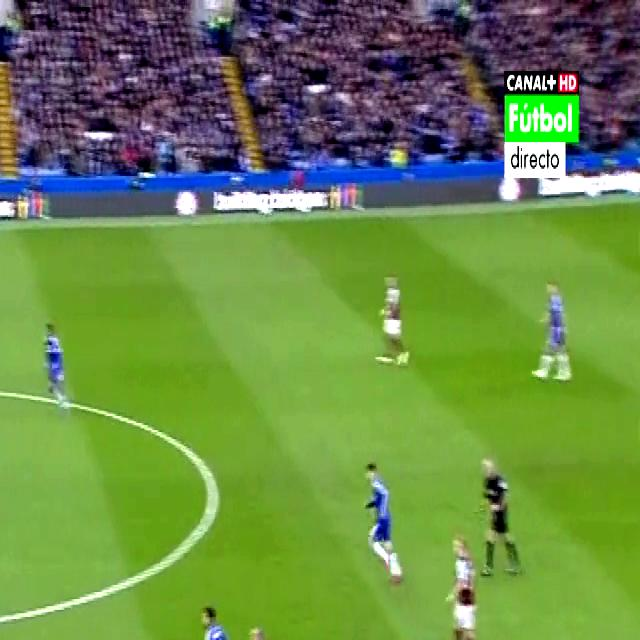referee: (473, 446, 527, 590)
soccer-player: (359, 454, 413, 598), (534, 265, 576, 393), (442, 533, 492, 640), (376, 255, 416, 359), (38, 310, 76, 415), (180, 586, 247, 640), (236, 615, 296, 640)
